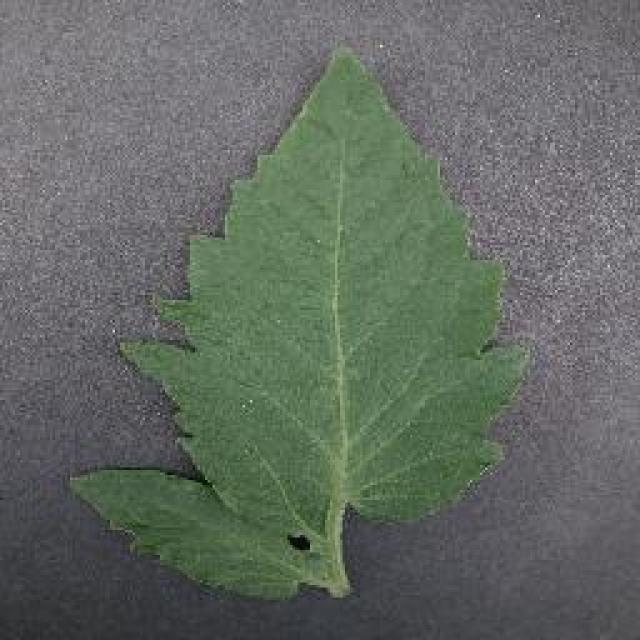Healthy: (55, 30, 543, 625)
